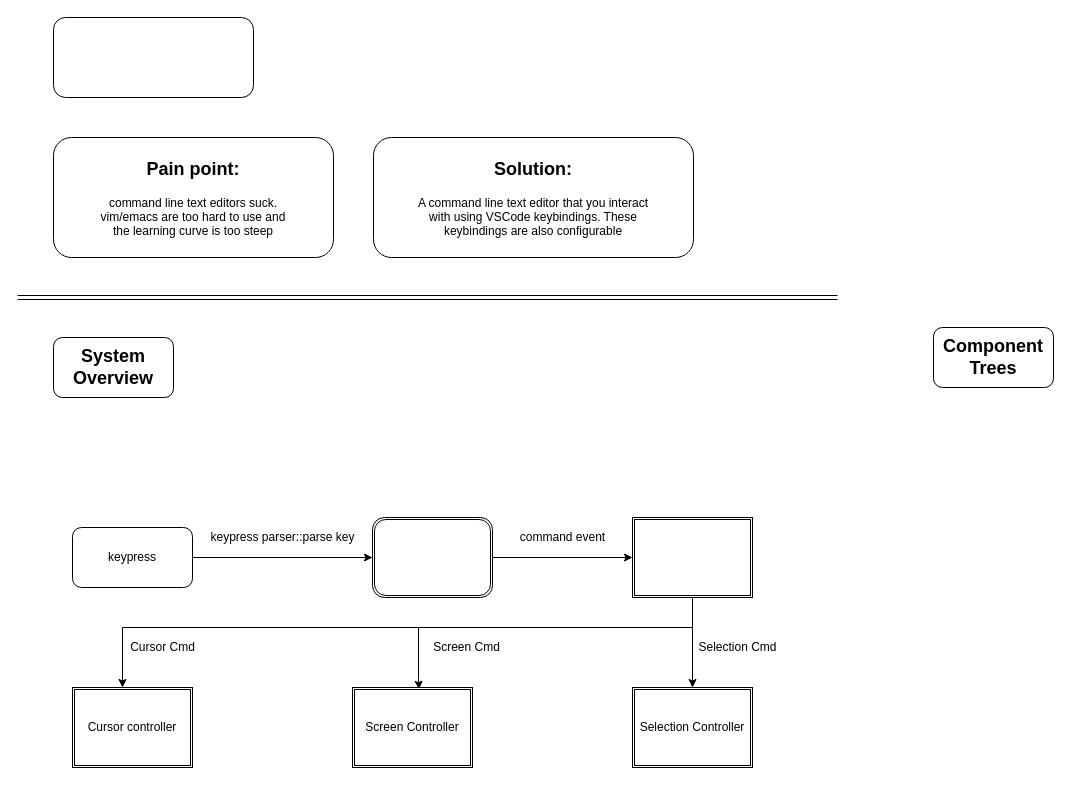
Some shapes in this 1071 by 785 pixel diagram are drawn without their labels. Each missing label, with the centre of its shape:
"Command callback" belongs at (x=692, y=557).
"keypress parser" belongs at (x=432, y=557).
"novim" belongs at (x=153, y=57).
